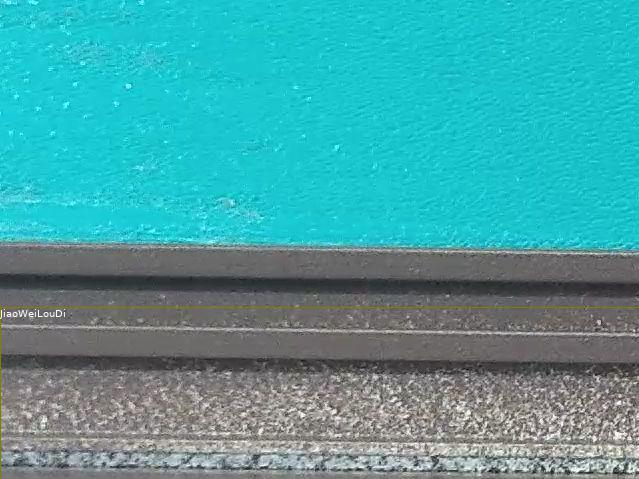JiaoWeiLouDi: (0, 307, 639, 479)
